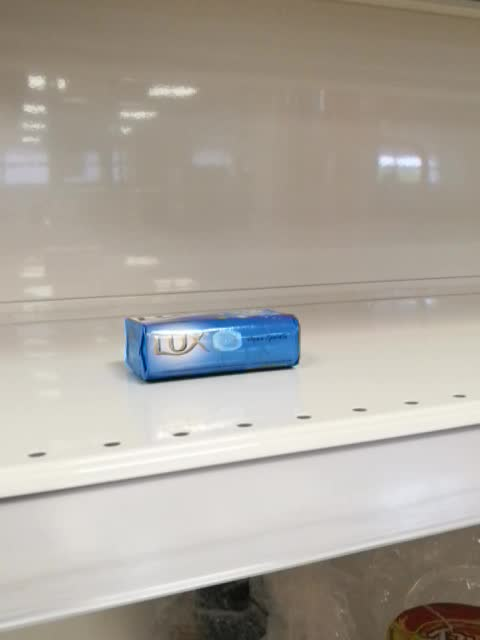soap: (123, 308, 302, 385)
